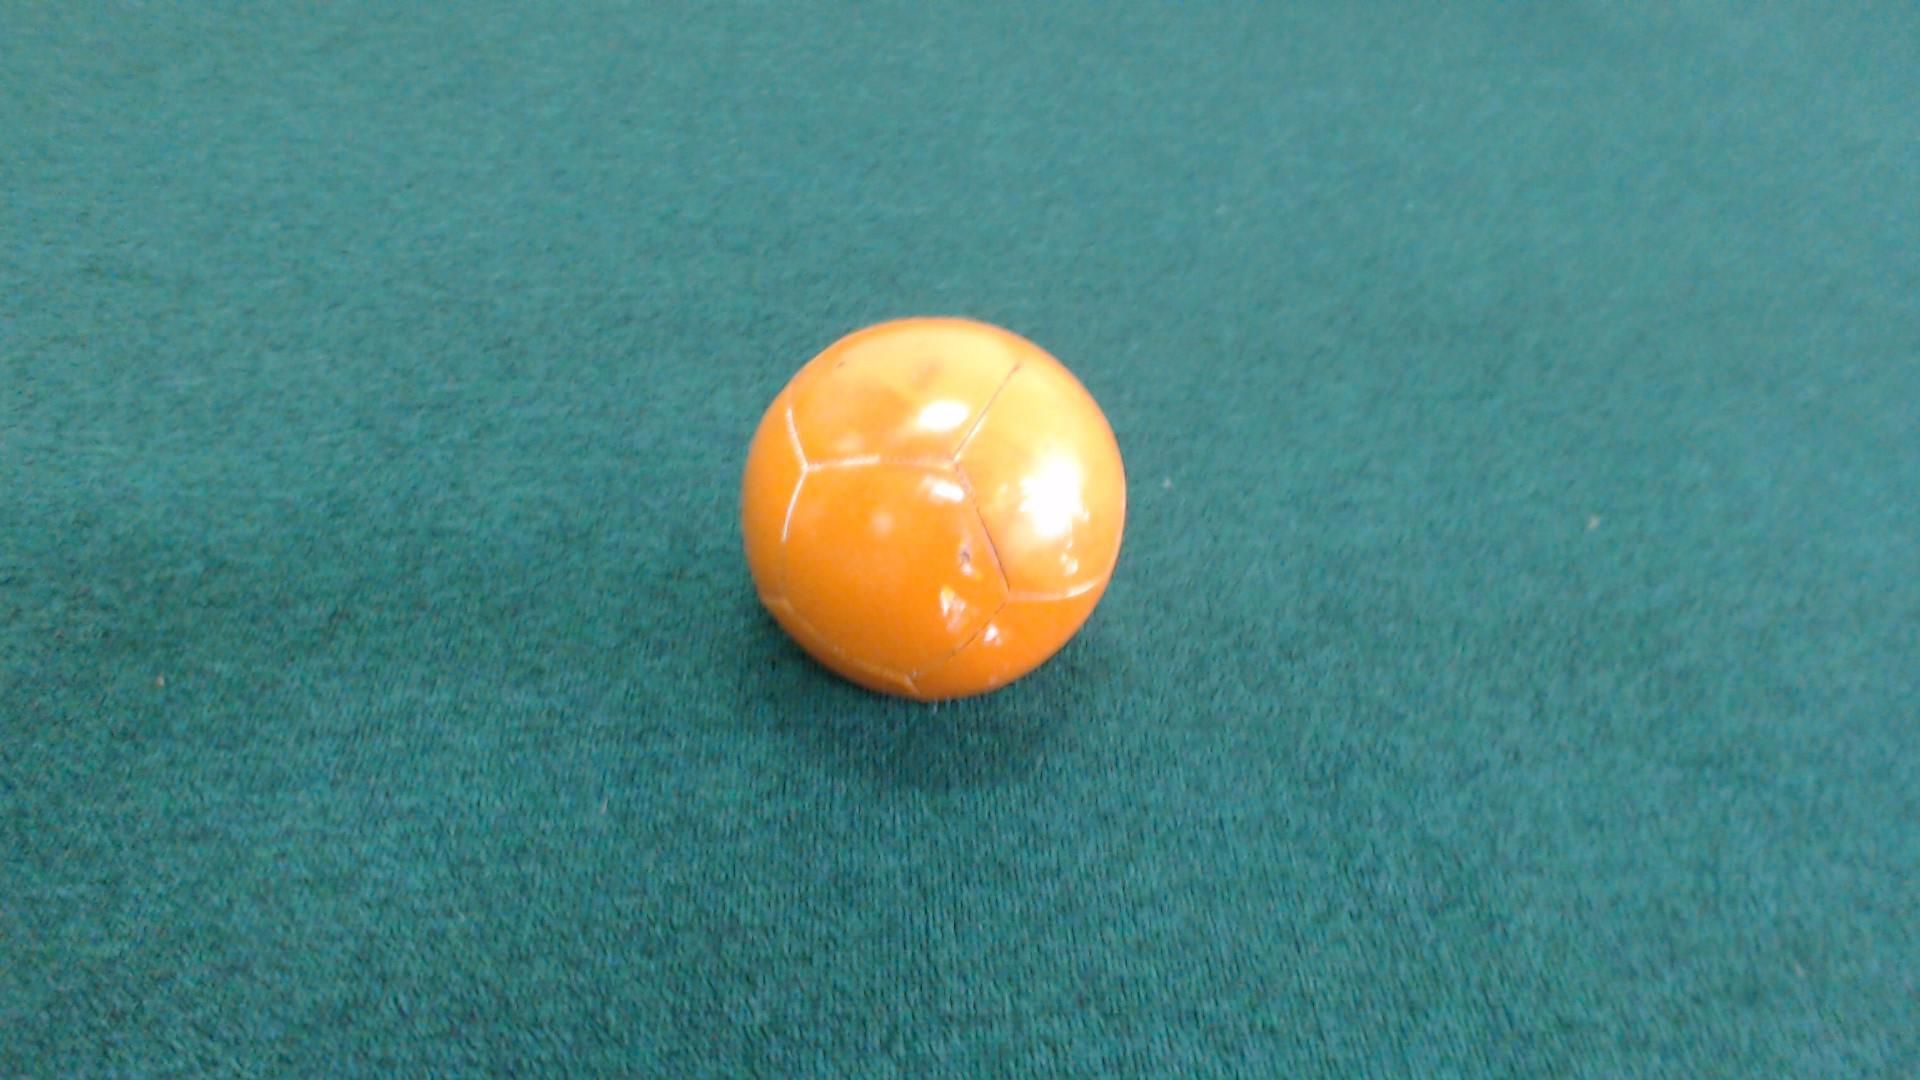bola: (719, 286, 1145, 721)
